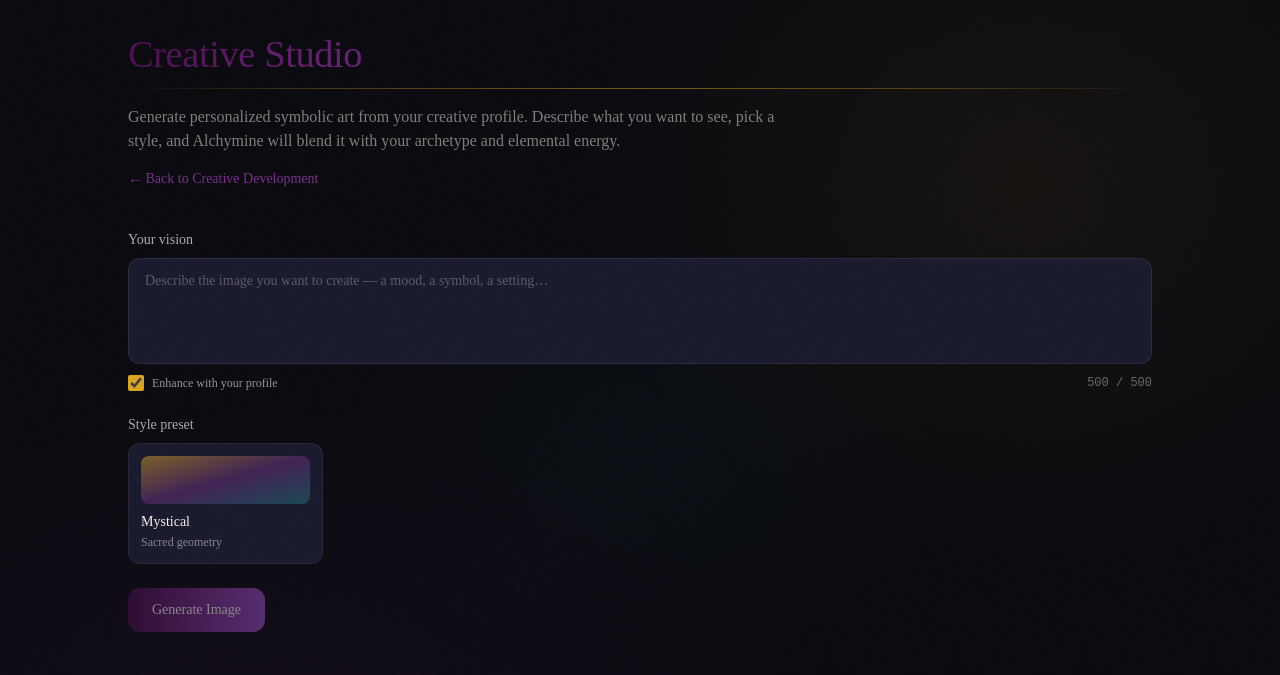
Scenario: CreativeStudioPage plan upsell › offers an upgrade when the plan does not include art
Replace the text in the text box labelled "Your vision" with "a quiet forest" at [640, 311], box x1=128 y1=258 x2=1152 y2=364
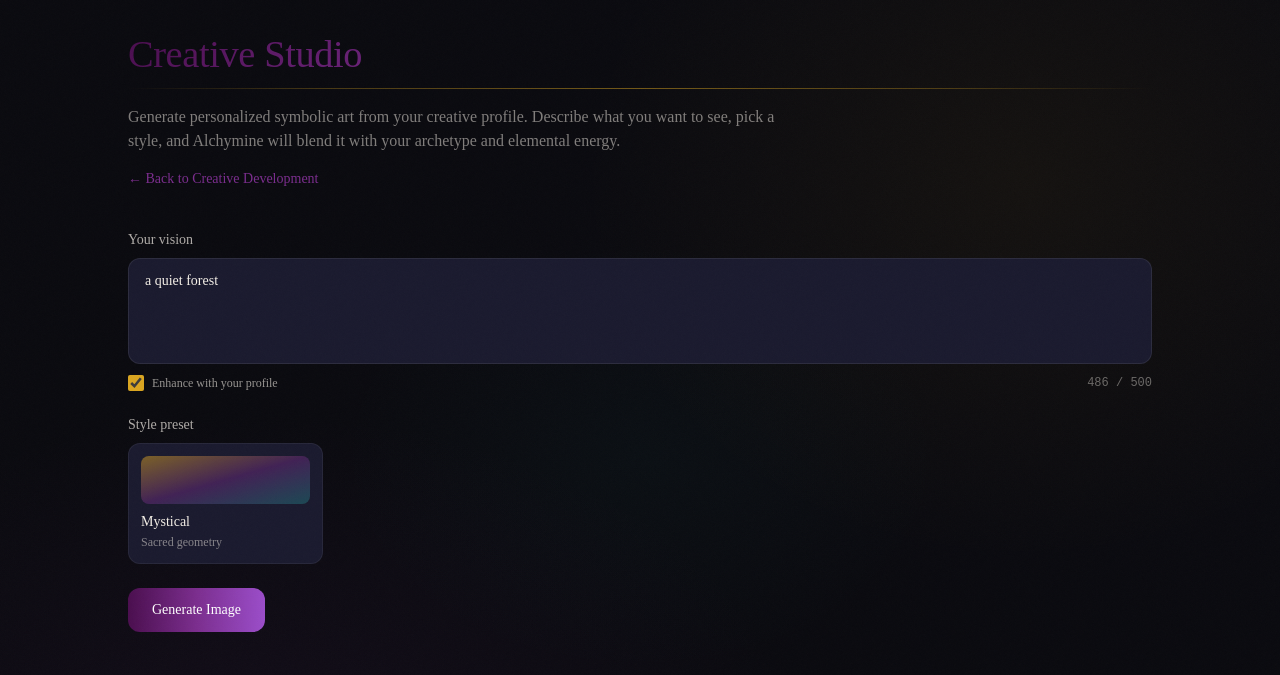
Click the button "Generate Image" at [196, 610], box x1=128 y1=588 x2=265 y2=632
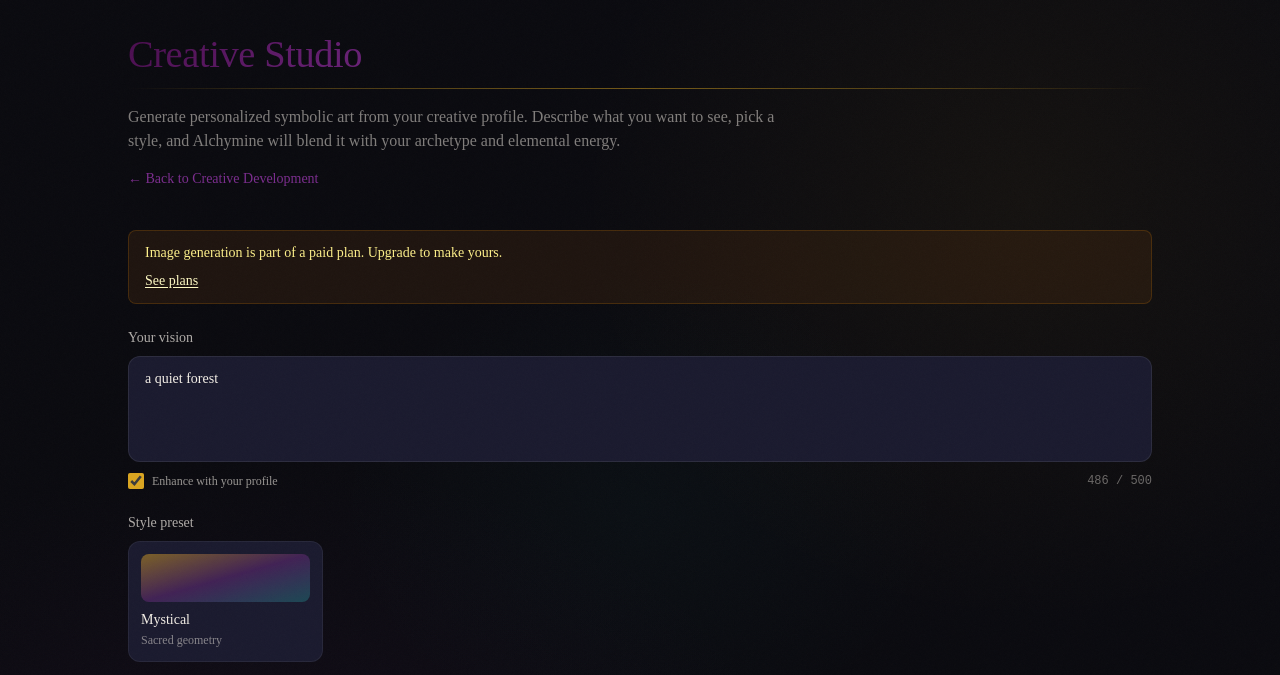
Now the message shows "part of a paid plan", box x1=145 y1=245 x2=502 y2=260
